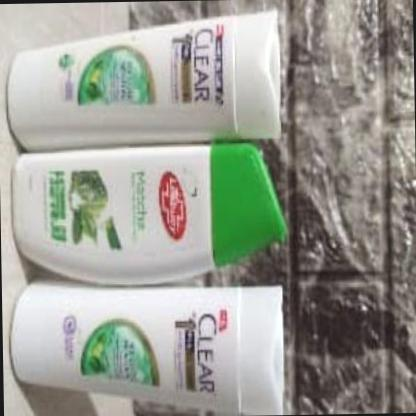objects: (0, 10, 322, 155), (10, 140, 292, 286), (4, 276, 287, 416)
